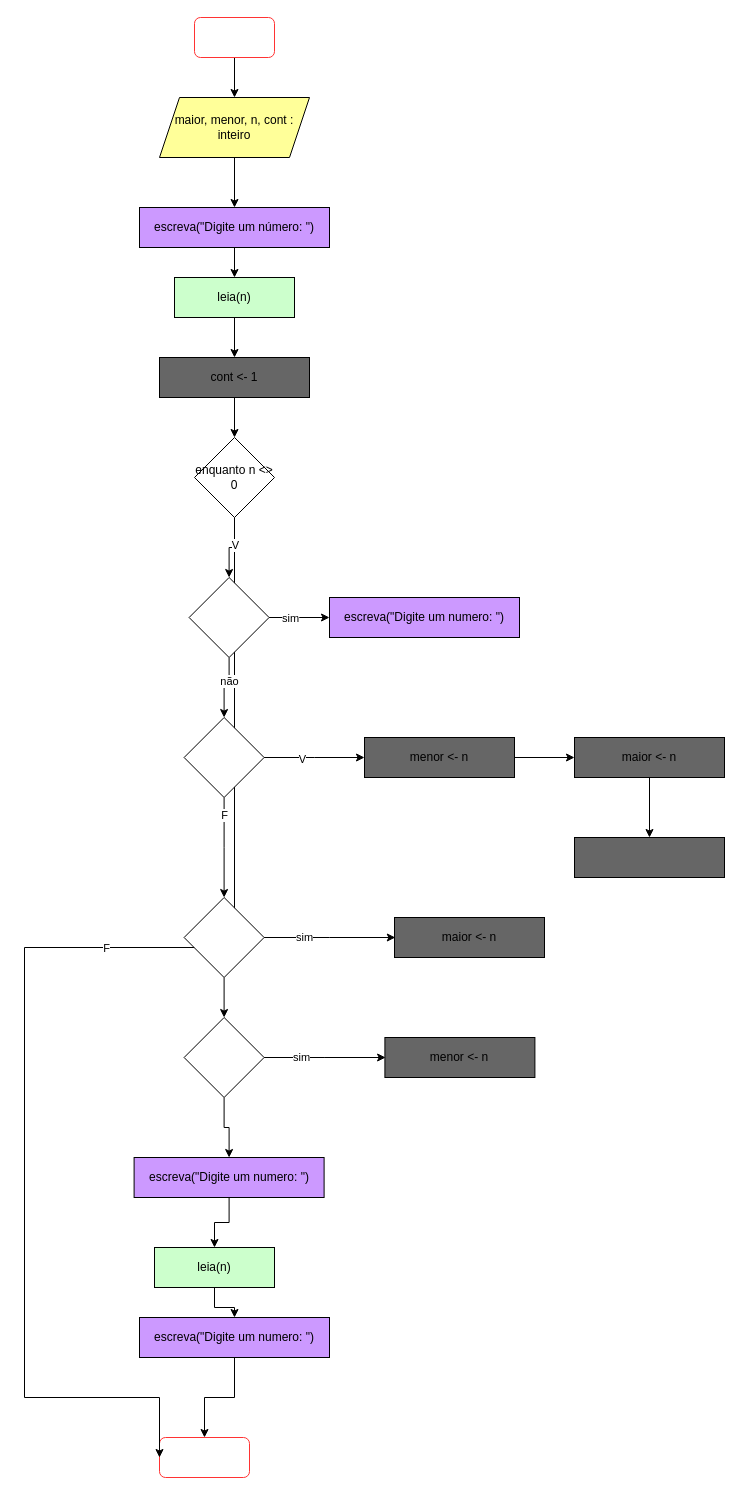
The diagram is 742 pixels wide and 1495 high, and some of its shapes have lost their labels. The shapes that lost their labels are listed below. From the top down, each one's centre as x and y in pixels, then its label:
At pixel 234 37: "Inicio".
At pixel 228 617: "n < 0".
At pixel 223 757: "enquanto cont = 1 faca".
At pixel 649 857: "cont <- cont + 1".
At pixel 223 937: "n > maior".
At pixel 223 1057: "n > menor".
At pixel 204 1457: "fim".
